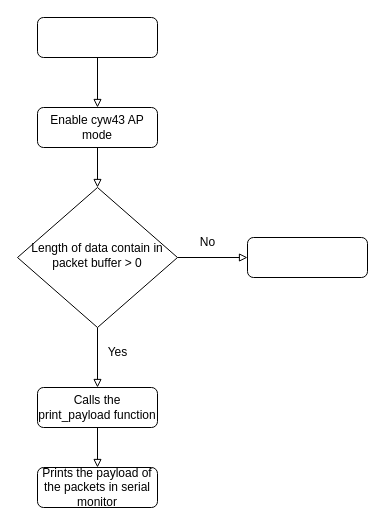
Image size: 385x526. Some labels were removed from this diagram. Each missing label, with the box of its shape:
Nothing will be outputted into serial monitor: (246, 236, 368, 278)
Start: (36, 16, 158, 58)
